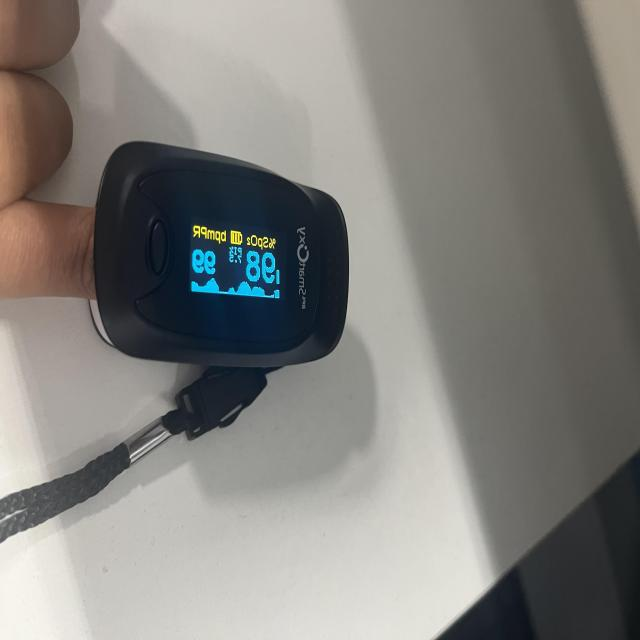spo2: (91, 143, 350, 375)
